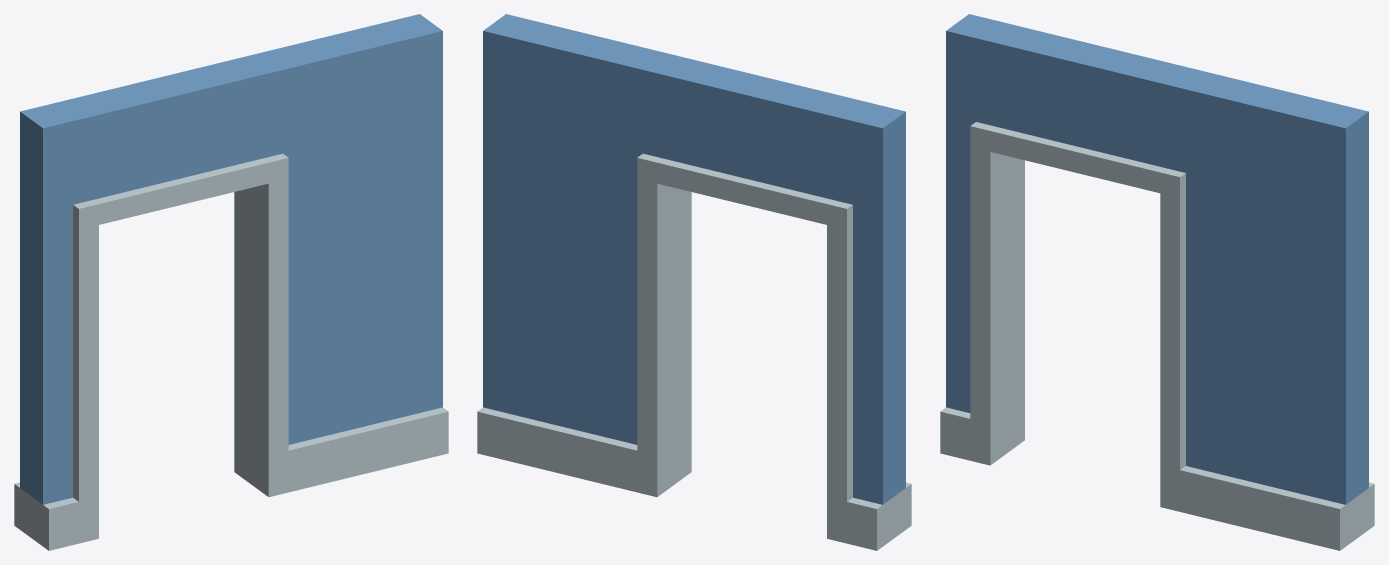
The model's file is wall-back.obj.
The picture shows the model from 3 angles, left to right: view 1: azimuth 30°, elevation 25°; view 2: azimuth 150°, elevation 25°; view 3: azimuth 330°, elevation 25°; orthographic projection.
Size of the model in its own units: 4 by 4 by 0.6.
1 material, 1 textured.
